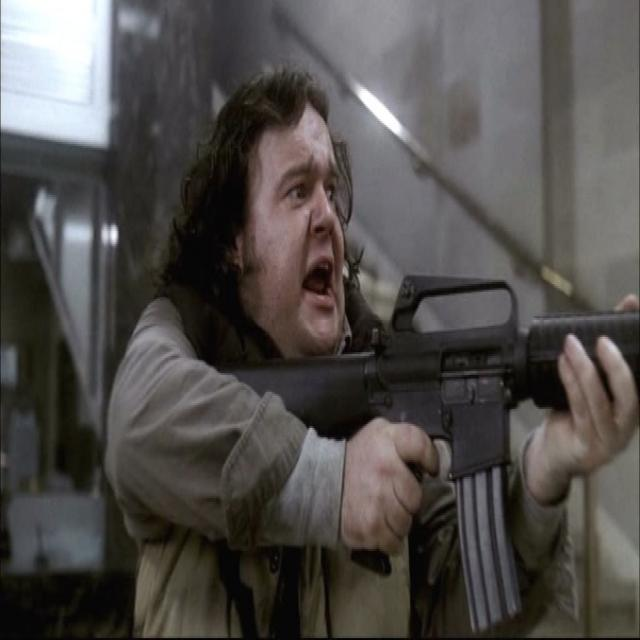rifle: (233, 269, 640, 639)
